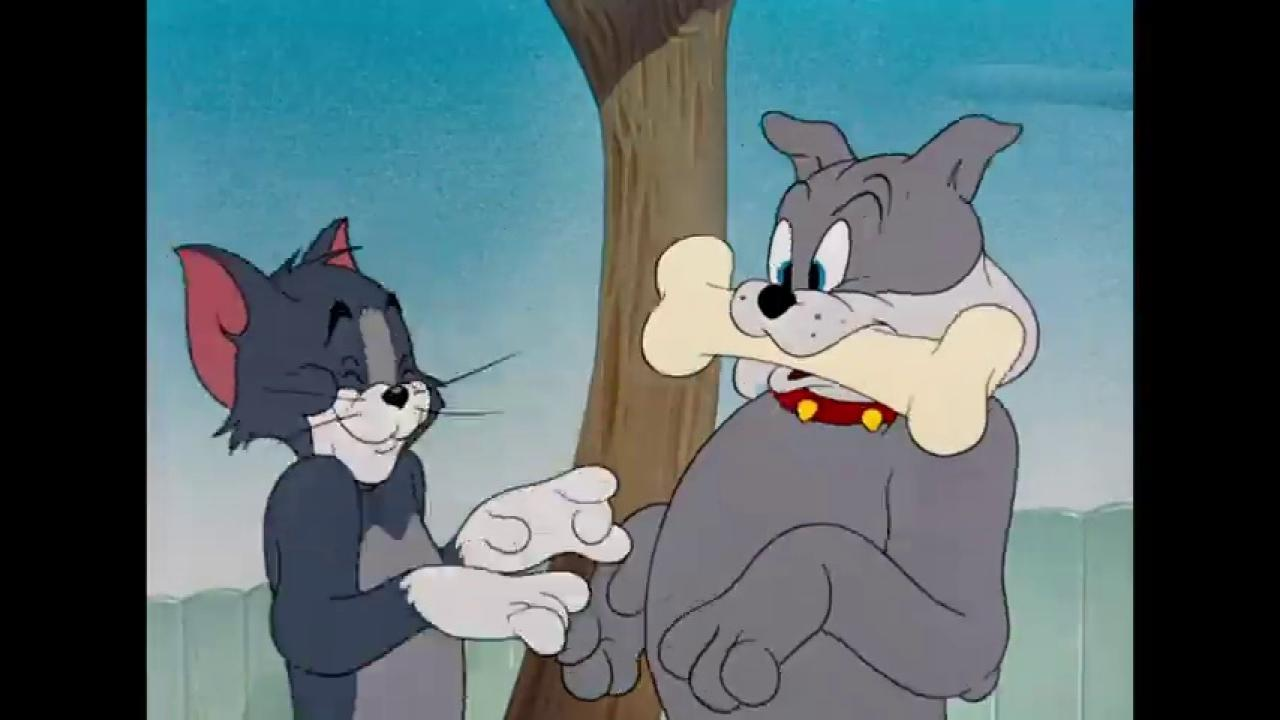Tom: (171, 211, 634, 720)
